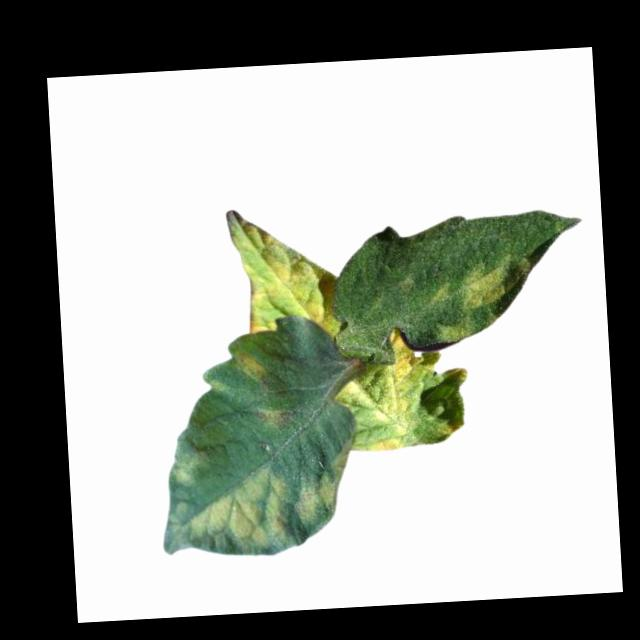Leaf_Mold: (167, 463, 338, 554), (227, 203, 344, 335), (330, 325, 432, 437), (459, 249, 533, 310), (171, 437, 210, 486), (433, 314, 480, 344), (236, 346, 270, 381), (256, 402, 296, 431), (368, 435, 406, 452)
